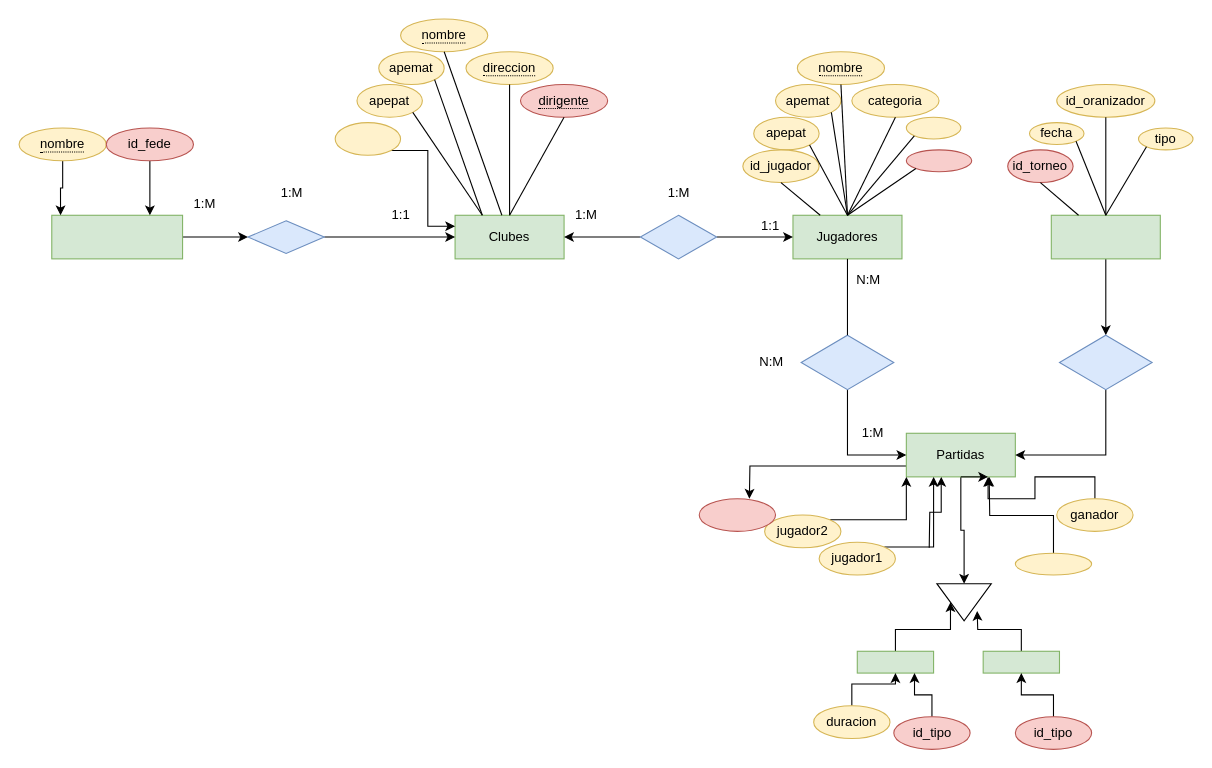
This 1212x768 diagram has some shape labels left out. The box of each missing label's shape, as (x1, y1, x2, y2) in pixels:
afiliado: (334, 122, 401, 155)
elo: (905, 116, 961, 139)
Federacion_Ajedrez: (51, 214, 183, 259)
id_club: (905, 149, 972, 172)
id_partida: (698, 498, 776, 531)
juegan: (800, 334, 894, 390)
pertenece: (639, 214, 717, 259)
resultado: (1014, 552, 1092, 575)
se realizan: (1058, 334, 1152, 390)
sin_tiempo: (982, 650, 1059, 673)
Tiempo: (856, 650, 934, 673)
tiene: (247, 220, 324, 253)
Torneos: (1050, 214, 1160, 259)
